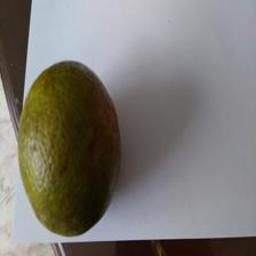Orange Semifresh: (9, 52, 126, 252)
